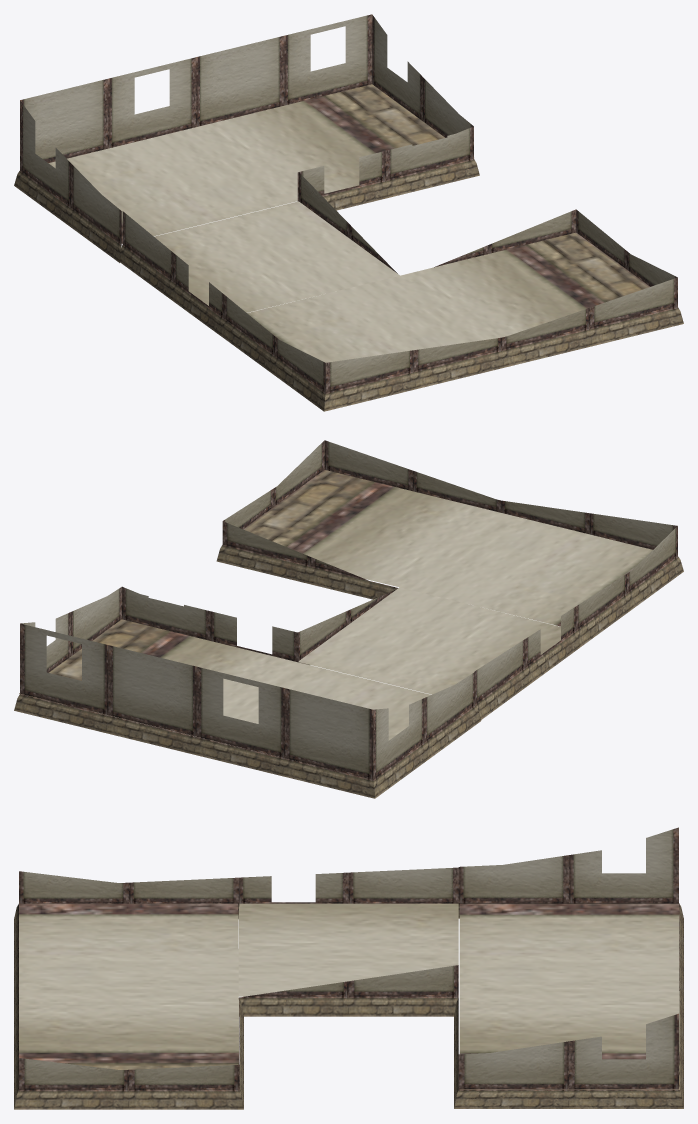
File: s44_b_house_4_6_destroyed_2.dae
The picture shows the model from 3 angles, top to bottom: view 1: azimuth 30°, elevation 25°; view 2: azimuth 150°, elevation 25°; view 3: azimuth 270°, elevation 25°; orthographic projection. The views are drawn at different scales.
Parts seen in each view (by area): view 1: Untitled; view 2: Untitled; view 3: Untitled.
Part boxes in pixels (bbox=[...]): Untitled: bbox=[14, 14, 683, 411]; Untitled: bbox=[14, 440, 683, 798]; Untitled: bbox=[14, 827, 683, 1109].
Bounding box in the file's own units: 98.39 × 146 × 22.47.
1 material, 1 textured.
